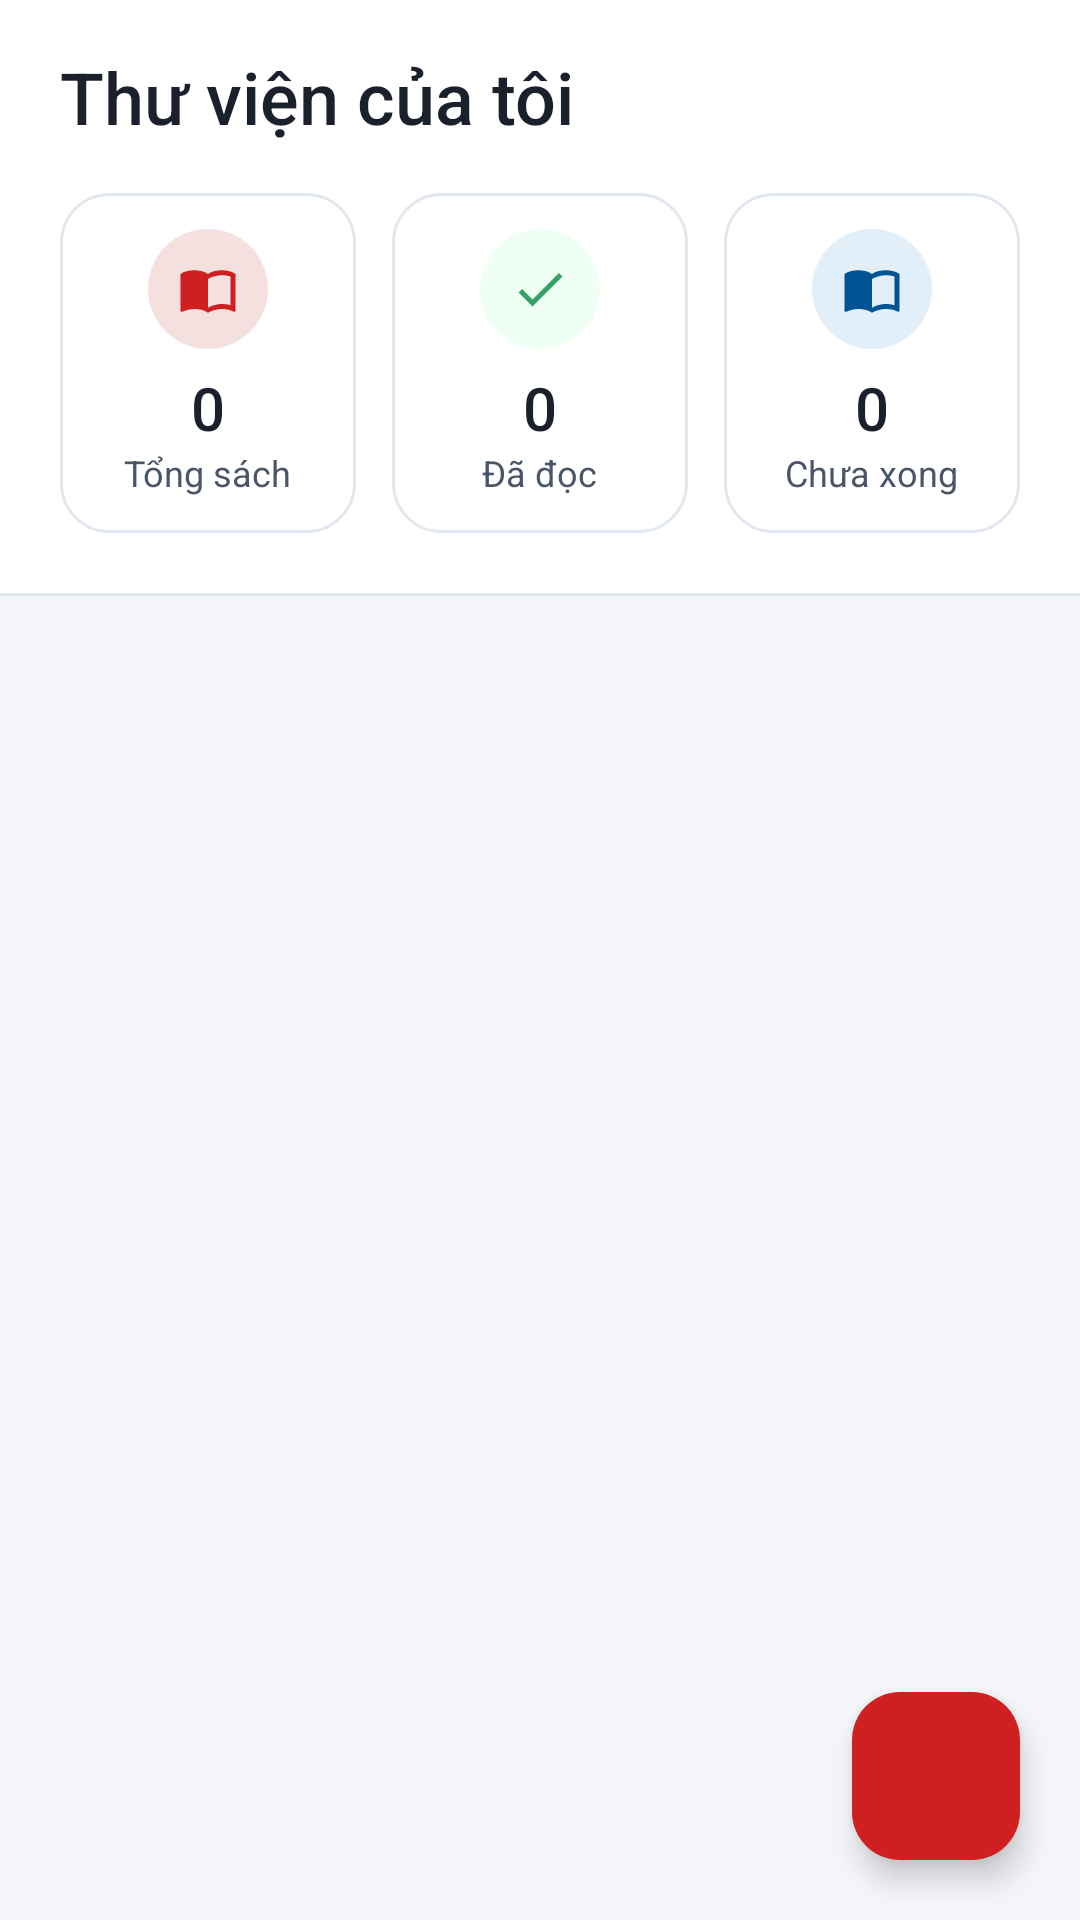

Icon bounding boxes for this 1080*1920 phone screenshot, format box(x1, y1, x2, y2):
read: box(518, 273, 563, 307)
